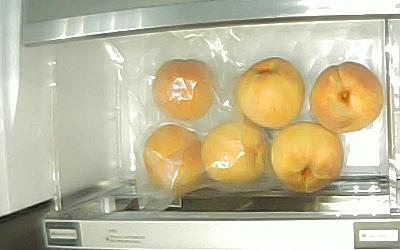peach: (270, 122, 343, 194), (310, 62, 383, 132), (236, 57, 305, 130)
peach_vinyl: (201, 121, 268, 186), (142, 124, 203, 195), (152, 59, 216, 121)
